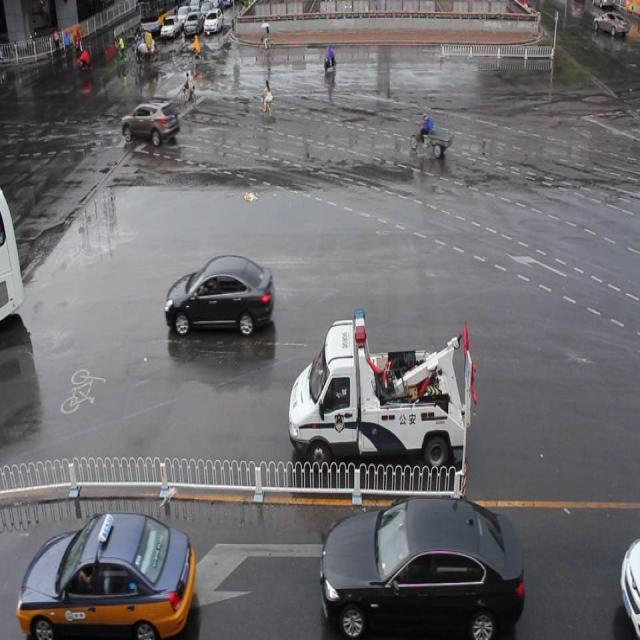bus: (288, 308, 476, 477)
car: (321, 492, 523, 640), (17, 509, 195, 640), (164, 254, 275, 335), (123, 101, 180, 146)
van: (1, 187, 25, 327)
